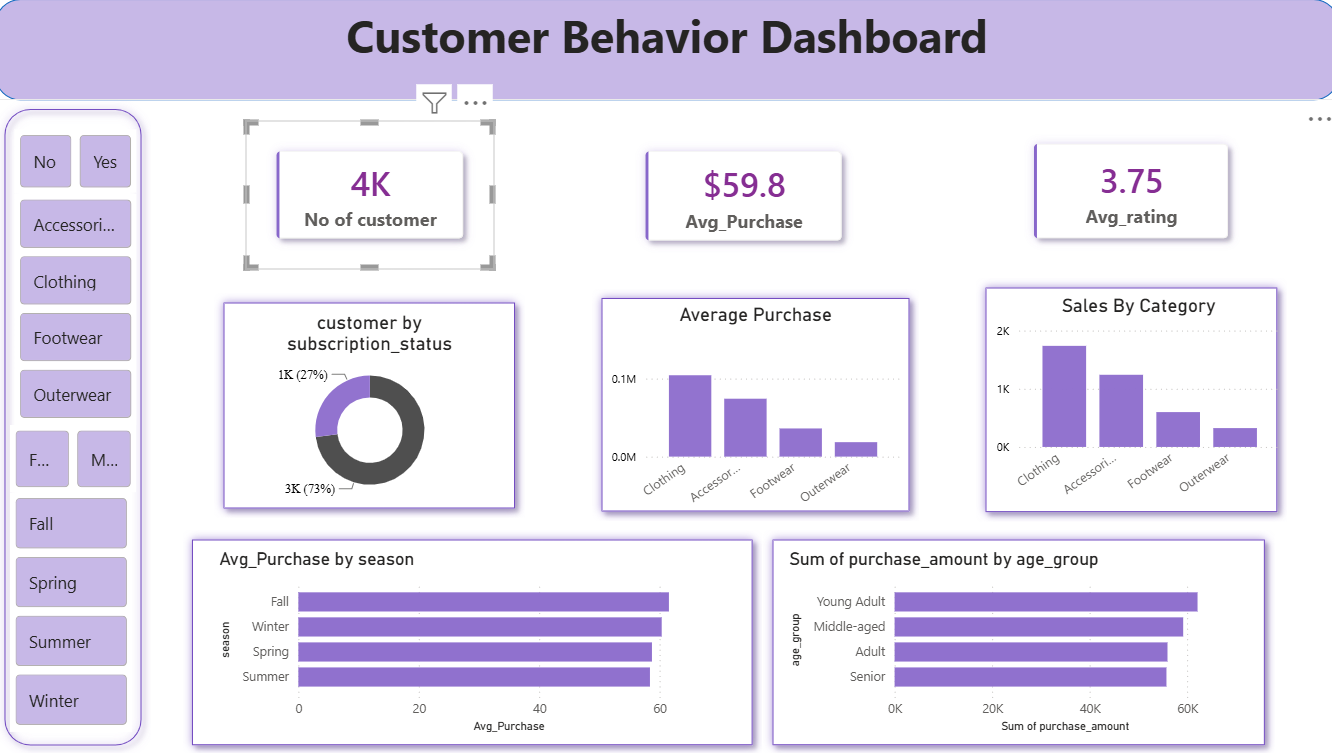

Layout of this report page (visuals, bound fields, positions):
{"tool":"powerbi","page":{"name":"Page 1","canvas":[1280,720],"ordinal":0},"visuals":[{"type":"cardVisual","fields":{"Data":["analysis_db customer.no of customer"]},"box":[238.3,115,236.7,141.7],"z":0},{"type":"cardVisual","fields":{"Data":["analysis_db customer.avg_purchase"]},"box":[590,115,245,143.3],"z":1000},{"type":"cardVisual","fields":{"Data":["analysis_db customer.avg_rating"]},"box":[960,108.3,243.3,148.3],"z":2000},{"type":"shape","box":[0,0,1280,96.7],"z":3000},{"type":"textbox","box":[0,0,1280,95.7],"z":4000},{"type":"shape","box":[208.6,279.5,295.7,214.3],"z":5000},{"type":"donutChart","title":"customer by subscription_status","fields":{"Y":["analysis_db customer.No of customer"],"Category":["analysis_db customer.subscription_status"]},"box":[229,296.5,256.2,186.2],"z":6000},{"type":"shape","box":[568.6,275.2,311.4,221.4],"z":7000},{"type":"columnChart","title":"Average Purchase","fields":{"Category":["analysis_db customer.category"],"Y":["Sum(analysis_db customer.purchase_amount)"]},"box":[582.1,290.6,286.2,202.5],"z":8000},{"type":"shape","box":[933.7,265.9,296,232],"z":9000},{"type":"columnChart","title":"Sales By  Category","fields":{"Category":["analysis_db customer.category"],"Y":["Count(analysis_db customer.customer_id)"]},"box":[948.3,280.8,281.4,202.9],"z":10000},{"type":"shape","box":[0,95.7,148.6,624.3],"z":11000},{"type":"advancedSlicerVisual","fields":{"Values":["analysis_db customer.subscription_status"]},"box":[18,124,116,60],"z":12000},{"type":"advancedSlicerVisual","fields":{"Values":["analysis_db customer.gender"]},"box":[14,406,120,64],"z":13000},{"type":"advancedSlicerVisual","fields":{"Values":["analysis_db customer.category"]},"box":[18,186,116,220],"z":14000},{"type":"advancedSlicerVisual","fields":{"Values":["analysis_db customer.season"]},"box":[14,470,116,228],"z":15000},{"type":"shape","box":[179,506,552,214],"z":16000},{"type":"shape","box":[731,506,487,214],"z":17000},{"type":"barChart","fields":{"Y":["analysis_db customer.Avg_Purchase"],"Category":["analysis_db customer.season"]},"box":[208.3,523.3,493.3,180],"z":18000},{"type":"barChart","fields":{"Category":["analysis_db customer.age_group"],"Y":["Sum(analysis_db customer.purchase_amount)"]},"box":[751.7,523.3,445,180],"z":19000}]}

Visuals, with their boxes in screenshot pixels (x1, y1, x2, y2), scaled from the page's 1280x720 canvas onto the 1332x753 screenshot:
cardVisual - analysis_db customer.no of customer: left=248, top=120, right=494, bottom=268
cardVisual - analysis_db customer.avg_purchase: left=614, top=120, right=869, bottom=270
cardVisual - analysis_db customer.avg_rating: left=999, top=113, right=1252, bottom=268
shape: left=0, top=0, right=1331, bottom=101
textbox: left=0, top=0, right=1331, bottom=100
shape: left=217, top=292, right=525, bottom=516
"customer by subscription_status" donutChart: left=238, top=310, right=505, bottom=505
shape: left=592, top=288, right=916, bottom=519
"Average Purchase" columnChart: left=606, top=304, right=904, bottom=516
shape: left=972, top=278, right=1280, bottom=521
"Sales By  Category" columnChart: left=987, top=294, right=1280, bottom=506
shape: left=0, top=100, right=155, bottom=752
advancedSlicerVisual - analysis_db customer.subscription_status: left=19, top=130, right=139, bottom=192
advancedSlicerVisual - analysis_db customer.gender: left=15, top=425, right=139, bottom=492
advancedSlicerVisual - analysis_db customer.category: left=19, top=195, right=139, bottom=425
advancedSlicerVisual - analysis_db customer.season: left=15, top=492, right=135, bottom=730
shape: left=186, top=529, right=761, bottom=752
shape: left=761, top=529, right=1267, bottom=752
barChart - analysis_db customer.Avg_Purchase x analysis_db customer.season: left=217, top=547, right=730, bottom=736
barChart - analysis_db customer.age_group x Sum(analysis_db customer.purchase_amount): left=782, top=547, right=1245, bottom=736
